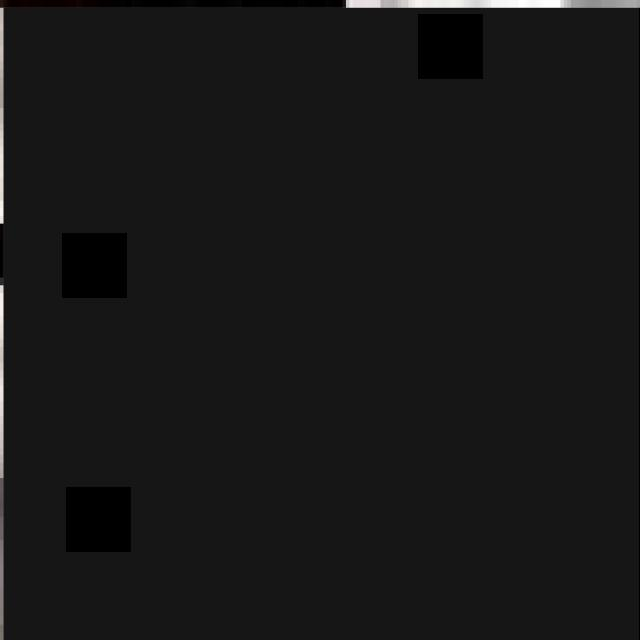smoke: (3, 7, 639, 640)
